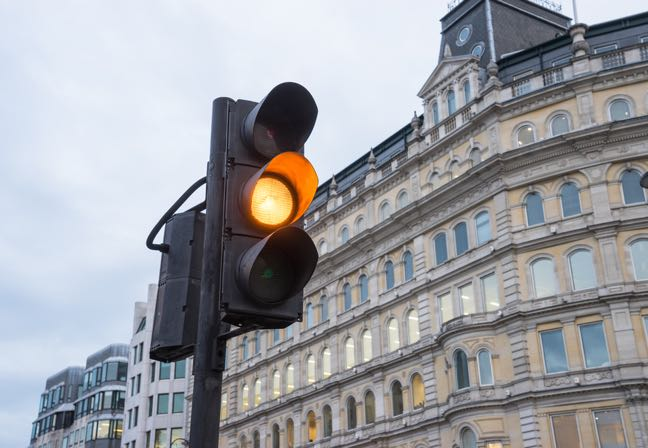trafficLight: (198, 82, 324, 333)
